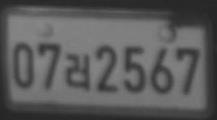0: (12, 42, 34, 87)
2: (95, 45, 119, 93)
5: (123, 46, 146, 92)
6: (150, 48, 173, 93)
7: (176, 47, 200, 94), (38, 43, 62, 89)
러: (65, 52, 90, 90)
